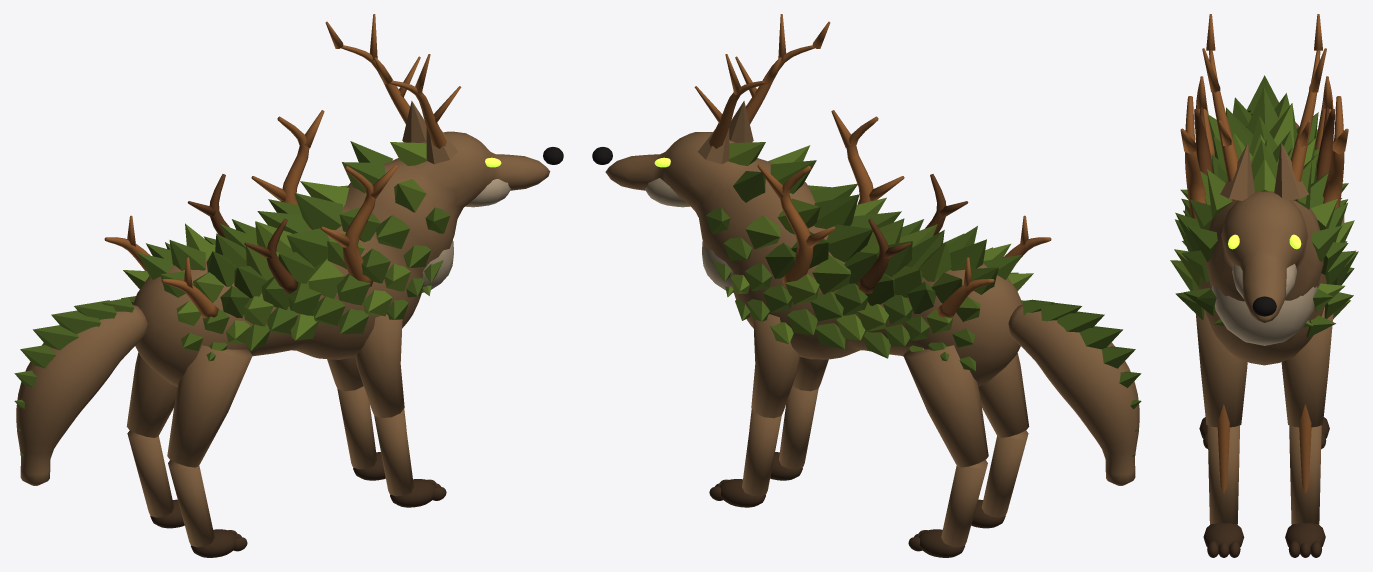
Rendered from wolf.glb.
3 renders of one model, left to right at view 1: azimuth 30°, elevation 25°; view 2: azimuth 150°, elevation 25°; view 3: azimuth 270°, elevation 25°, orthographic. The views are drawn at different scales.
Parts seen in each view (by area): view 1: Body, Tail_Mesh, Leg_HL_Thigh, Leg_FL_Upper, Leg_HR_Thigh, Leg_HL_Lower, Leg_HR_Lower, Leg_FL_Lower, Leg_FR_Lower, Branch_Shoulder_N, Moss_31, Moss_37 (+28 smaller); view 2: Body, Tail_Mesh, Leg_HR_Thigh, Leg_FR_Upper, Leg_HL_Thigh, Leg_HR_Lower, Leg_HL_Lower, Leg_FR_Lower, Leg_FL_Lower, Branch_Shoulder_F, Moss_38, Moss_31 (+25 smaller); view 3: Body, Leg_FL_Upper, Leg_FR_Upper, Ruff, Leg_FR_Lower, Leg_FL_Lower, Branch_Shoulder_N, Branch_Shoulder_F, Antler_N, Antler_F, Ear_N, Ear_F (+42 smaller).
Part boxes in pixels (box(x1,y1,x2,y2)): Body: box(133, 131, 550, 386); Tail_Mesh: box(16, 305, 147, 485); Leg_HL_Thigh: box(167, 345, 252, 467); Leg_FL_Upper: box(355, 314, 404, 418); Leg_HR_Thigh: box(126, 352, 177, 437); Leg_HL_Lower: box(168, 460, 214, 547); Leg_HR_Lower: box(127, 430, 174, 517); Leg_FL_Lower: box(374, 409, 413, 496); Leg_FR_Lower: box(337, 386, 376, 469); Branch_Shoulder_N: box(342, 165, 375, 287); Moss_31: box(294, 193, 342, 229); Moss_37: box(287, 228, 329, 267); Body: box(605, 132, 1022, 386); Tail_Mesh: box(1008, 305, 1139, 485); Leg_HR_Thigh: box(903, 345, 988, 467); Leg_FR_Upper: box(751, 314, 800, 418); Leg_HL_Thigh: box(978, 353, 1029, 437); Leg_HR_Lower: box(941, 460, 987, 547); Leg_HL_Lower: box(981, 430, 1028, 517); Leg_FR_Lower: box(742, 409, 781, 496); Leg_FL_Lower: box(779, 386, 818, 469); Branch_Shoulder_F: box(780, 165, 813, 287); Moss_38: box(826, 224, 872, 262); Moss_31: box(813, 194, 859, 229); Body: box(1197, 191, 1326, 365); Leg_FL_Upper: box(1196, 309, 1247, 427); Leg_FR_Upper: box(1281, 307, 1333, 427); Ruff: box(1211, 286, 1317, 345); Leg_FR_Lower: box(1289, 425, 1321, 524); Leg_FL_Lower: box(1207, 425, 1239, 524); Branch_Shoulder_N: box(1185, 96, 1206, 219); Branch_Shoulder_F: box(1323, 96, 1344, 208); Antler_N: box(1209, 50, 1238, 200); Antler_F: box(1290, 50, 1320, 200); Ear_N: box(1220, 143, 1254, 200); Ear_F: box(1274, 143, 1308, 200).
Size of the model in its own units: 1.72 by 1.39 by 0.4628.
